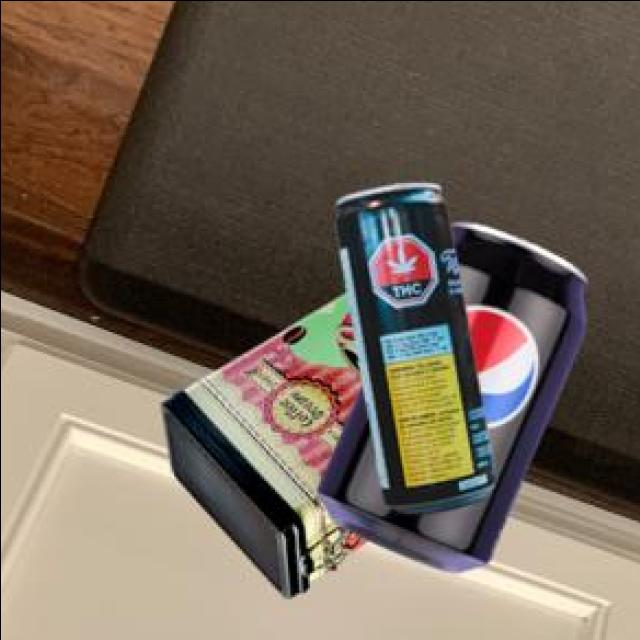logam: (321, 225, 588, 575), (163, 297, 369, 599), (339, 185, 499, 516)
